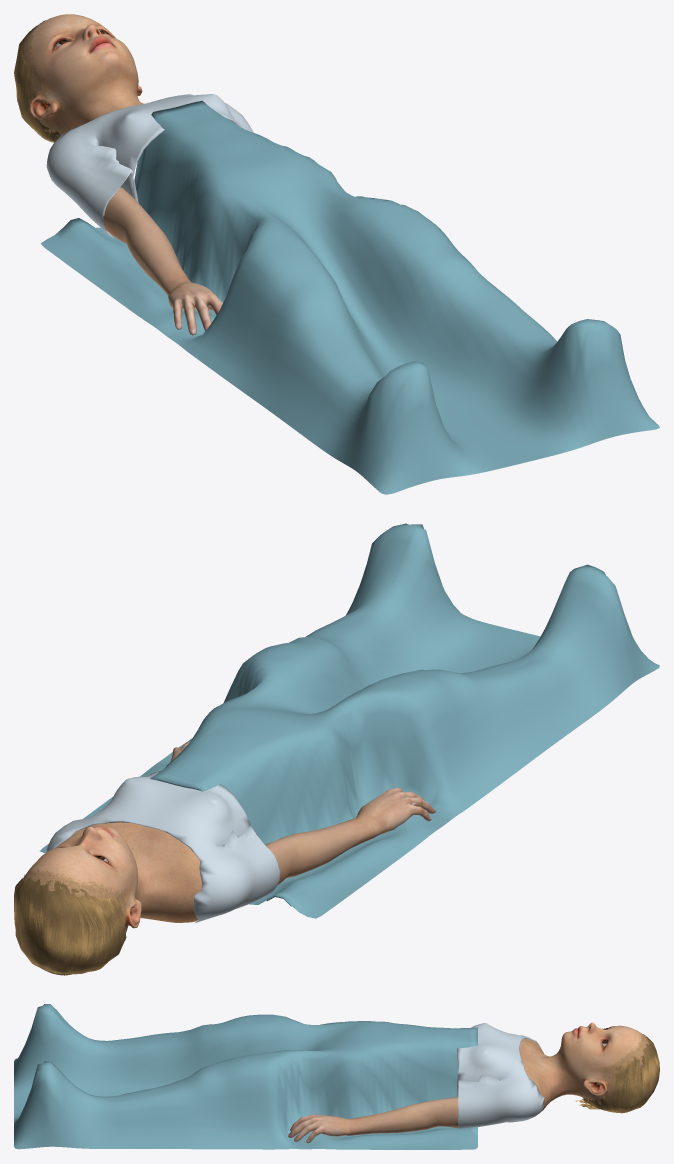
The picture shows the model from 3 angles, top to bottom: view 1: azimuth 30°, elevation 25°; view 2: azimuth 150°, elevation 25°; view 3: azimuth 270°, elevation 25°; orthographic projection. The views are drawn at different scales.
Parts seen in each view (by area): view 1: sheet, body, gown, arms, hair; view 2: sheet, gown, body, hair, arms; view 3: sheet, gown, body, arms, hair.
Part boxes in pixels (x1=…): sheet: x1=41, y1=100, x2=659, y2=494; body: x1=21, y1=14, x2=144, y2=136; gown: x1=46, y1=94, x2=253, y2=237; arms: x1=103, y1=187, x2=222, y2=335; hair: x1=14, y1=20, x2=63, y2=142; sheet: x1=40, y1=523, x2=659, y2=918; gown: x1=46, y1=770, x2=280, y2=923; body: x1=21, y1=822, x2=201, y2=974; hair: x1=14, y1=875, x2=126, y2=975; arms: x1=170, y1=741, x2=435, y2=885; sheet: x1=14, y1=1004, x2=477, y2=1149; gown: x1=457, y1=1023, x2=544, y2=1128; body: x1=520, y1=1022, x2=650, y2=1113; arms: x1=288, y1=1097, x2=458, y2=1143; hair: x1=575, y1=1034, x2=659, y2=1113.
Bounding box in the file's own units: 0.4325 × 0.1837 × 1.3.
8 materials, 6 textured.
